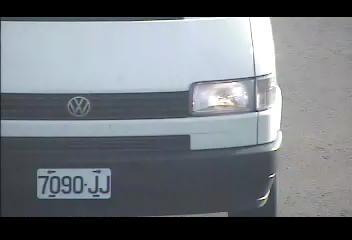plate: (35, 167, 113, 200)
